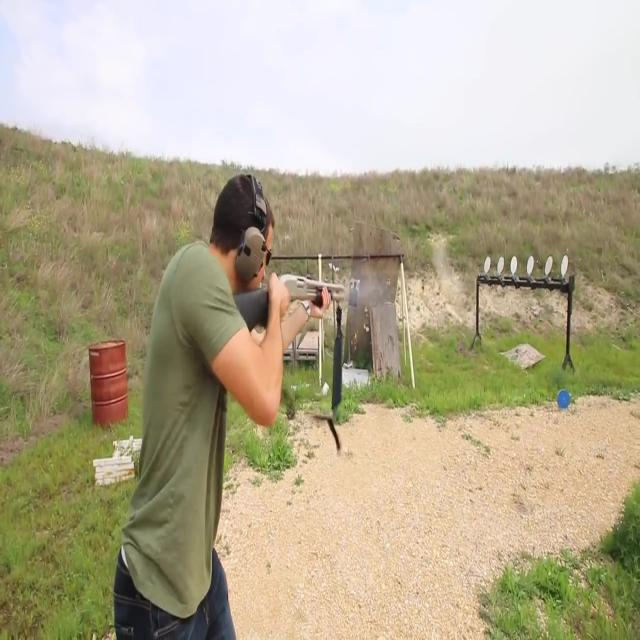Weapon: (208, 255, 366, 369)
